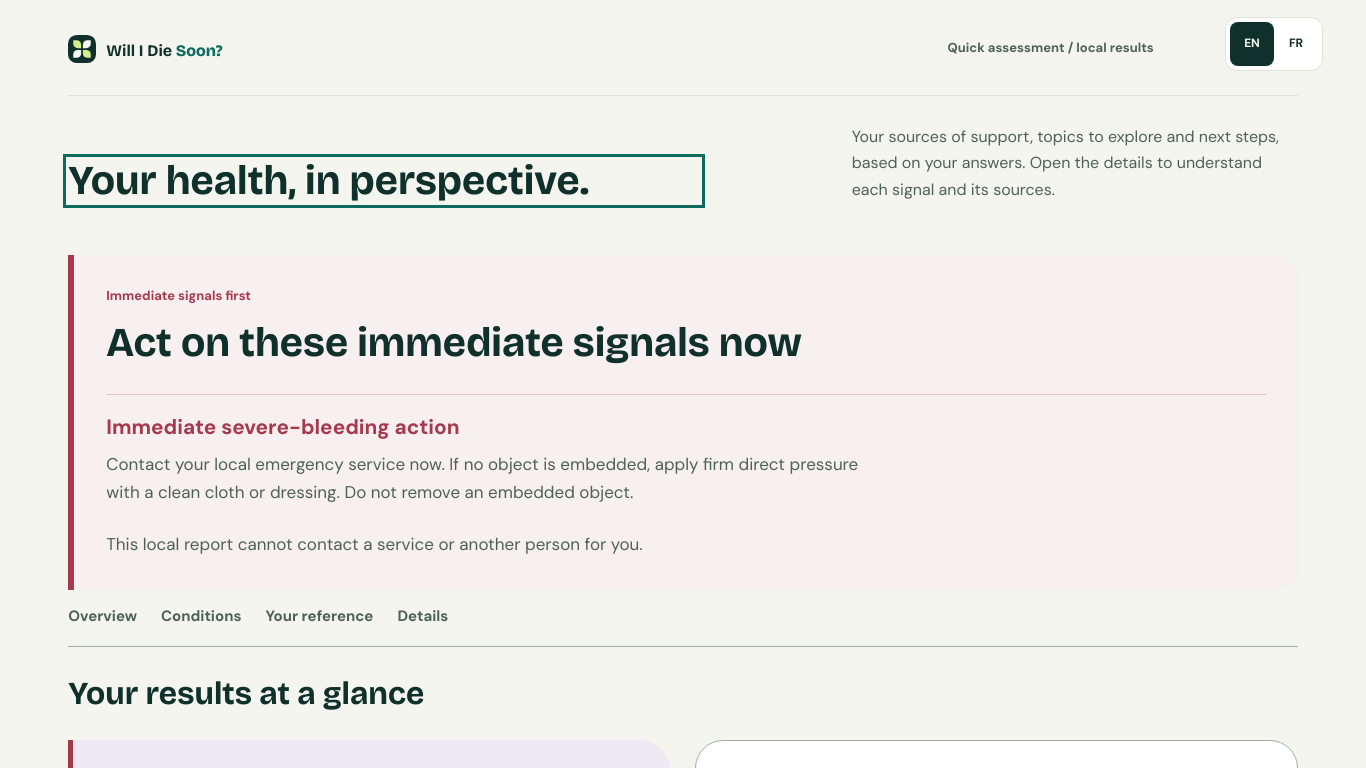
Test: renders the French other-country emergency route with only its applicable urgent instructions
Click the button with aria-label "Français" at (1296, 44), box [1274,22,1318,66]
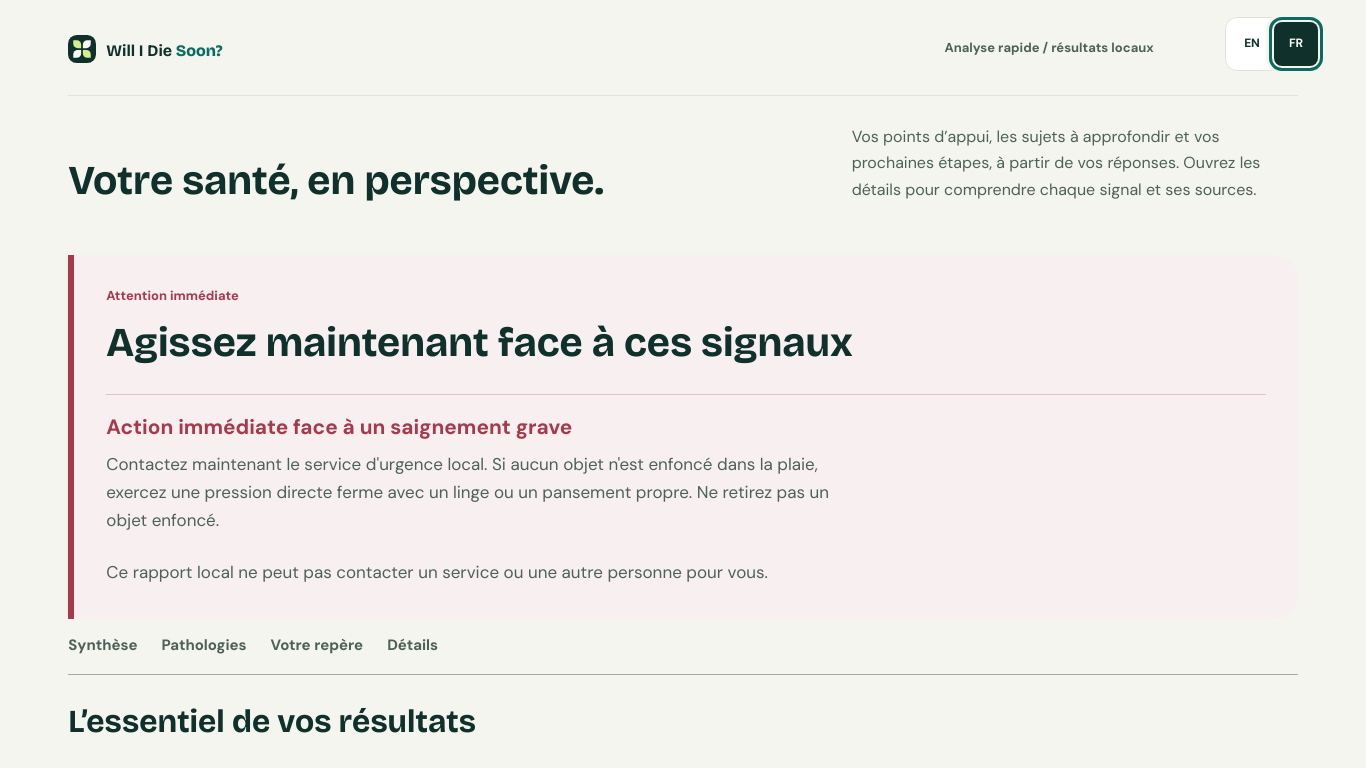
Now the message shows "service d'urgence local", box [106,453,829,531]
